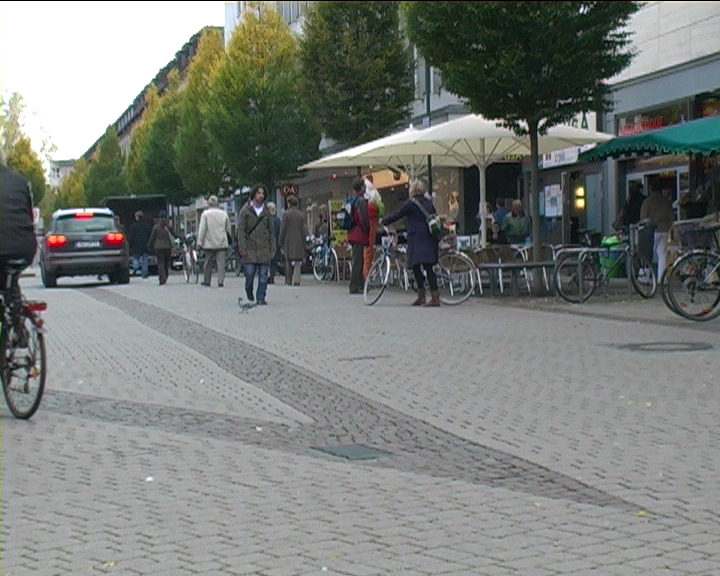undeflect: (239, 178, 280, 239)
